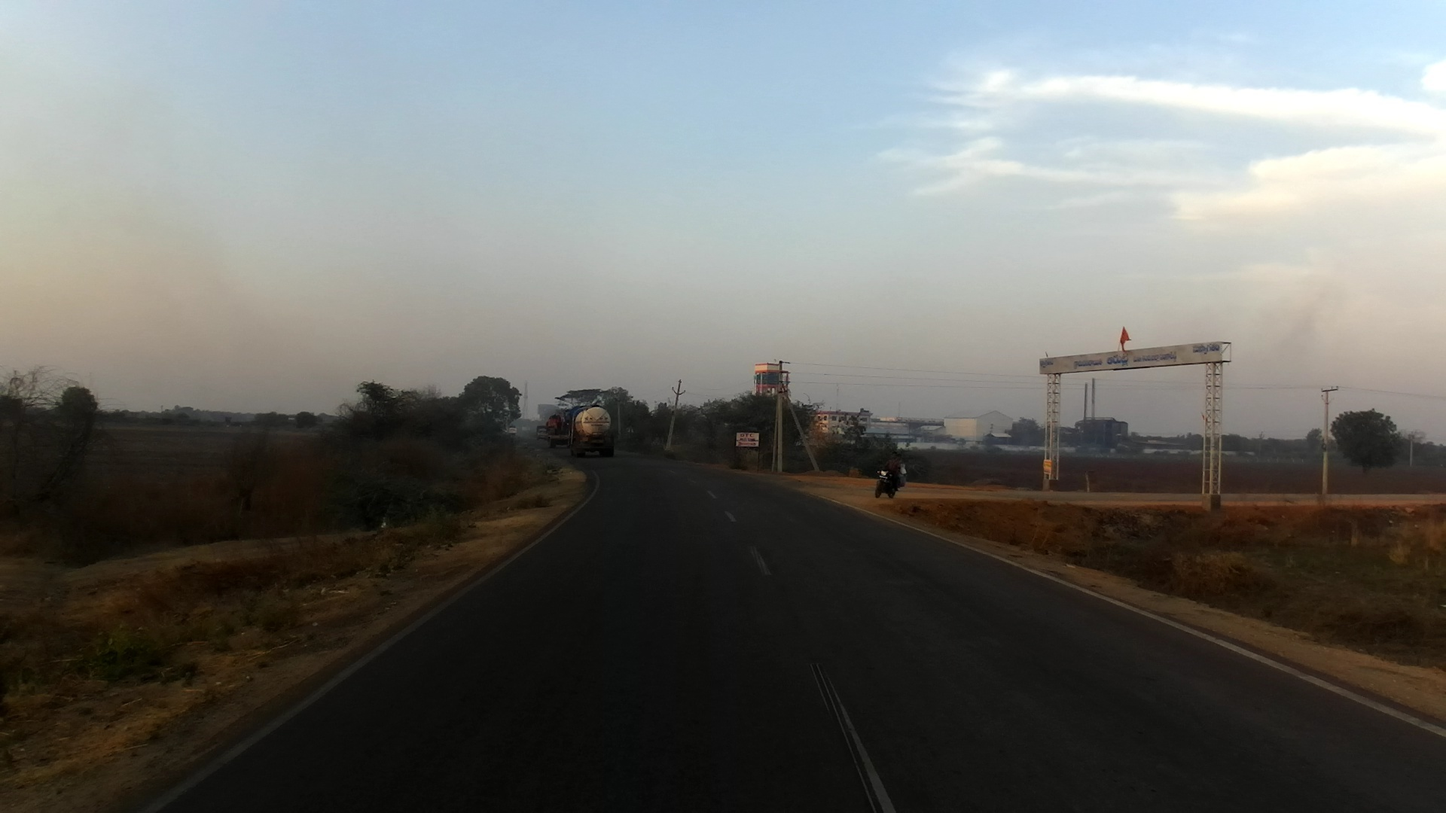car: (536, 424, 549, 439)
motorcycle: (874, 469, 902, 504)
rider: (884, 448, 904, 492)
truck: (566, 402, 617, 460), (546, 412, 573, 446)
vehicle fallback: (505, 426, 520, 443)
